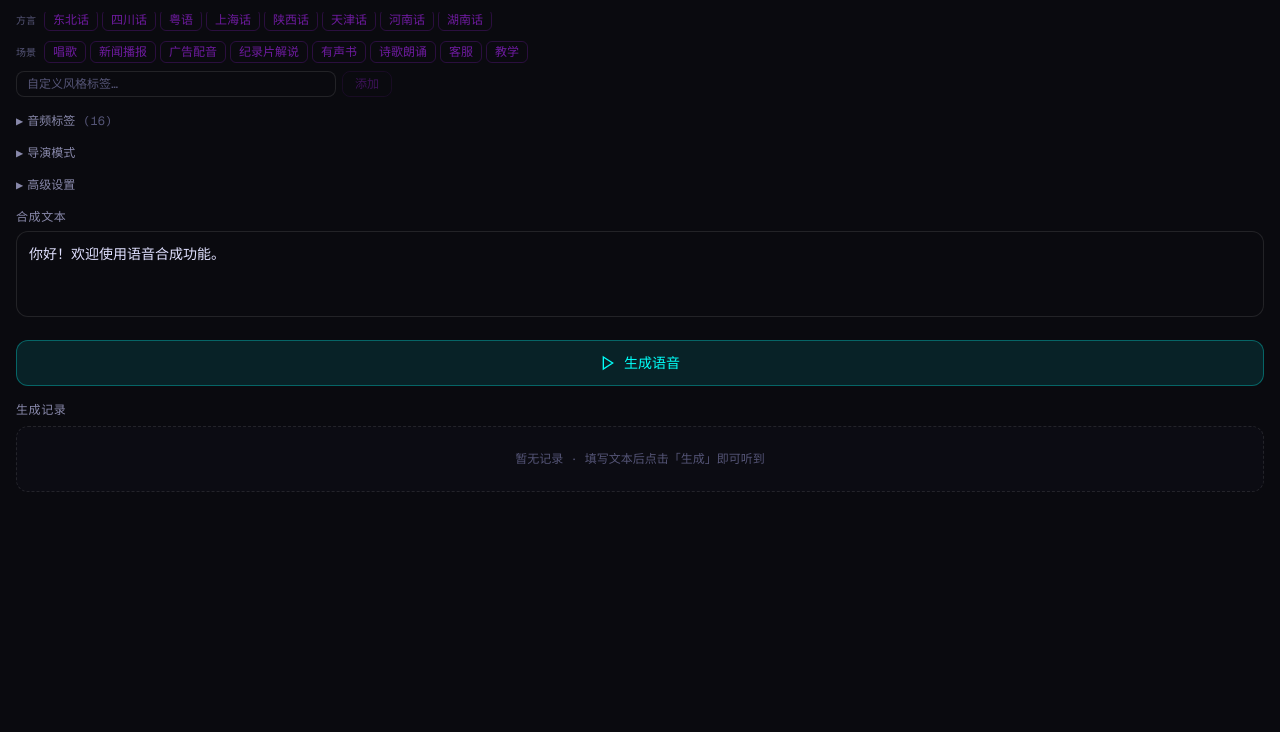
Test: TtsTool › error handling › shows error when API returns non-ok
The width and height of the screenshot is (1280, 732).
(page scrolled)
Click the button "生成语音" at (640, 362), box left=16, top=340, right=1264, bottom=386
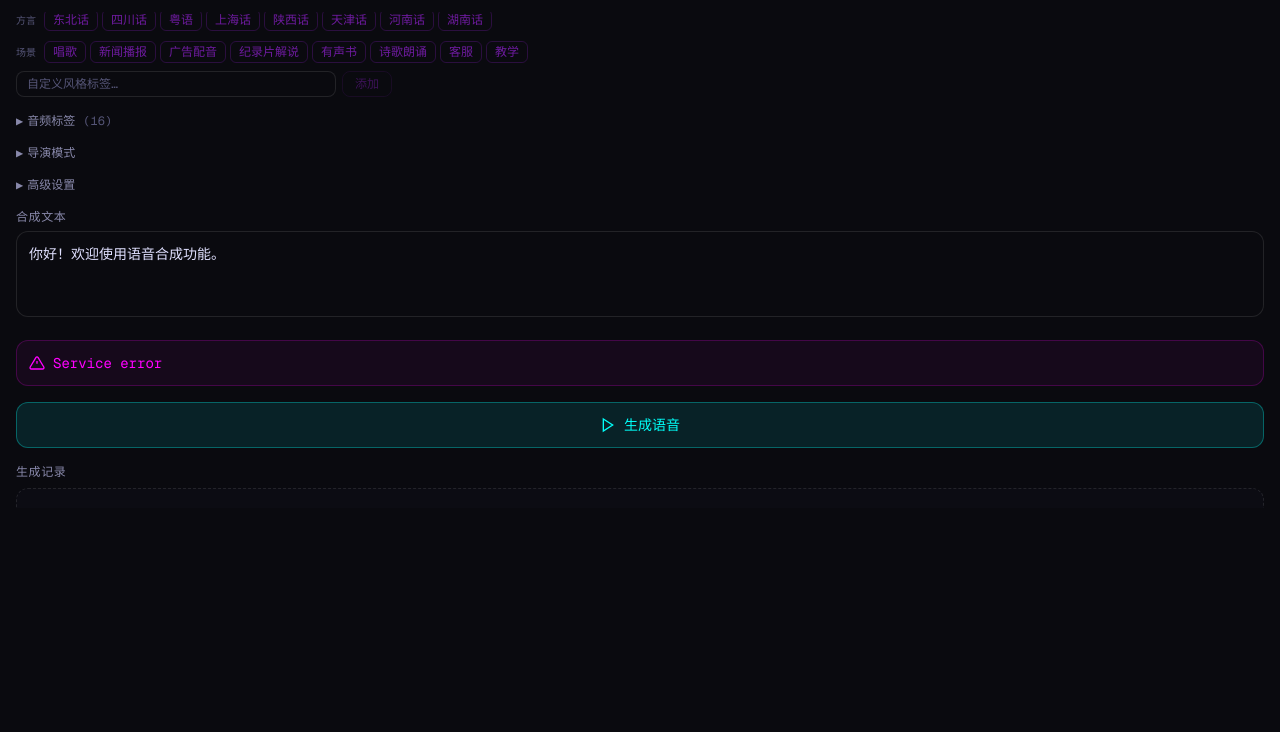
Result: the text "Service error" is shown at left=16, top=340, right=1264, bottom=386
